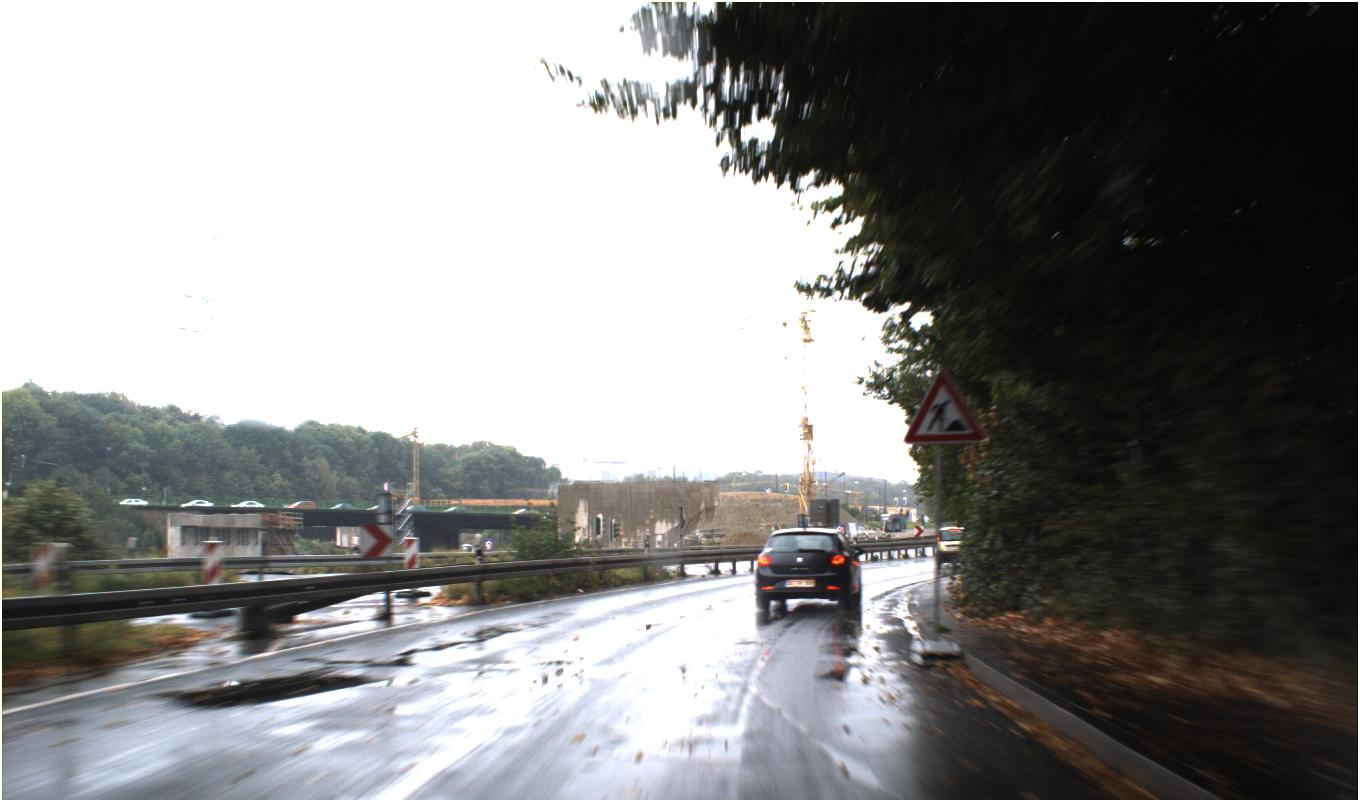danger: (902, 369, 985, 443)
